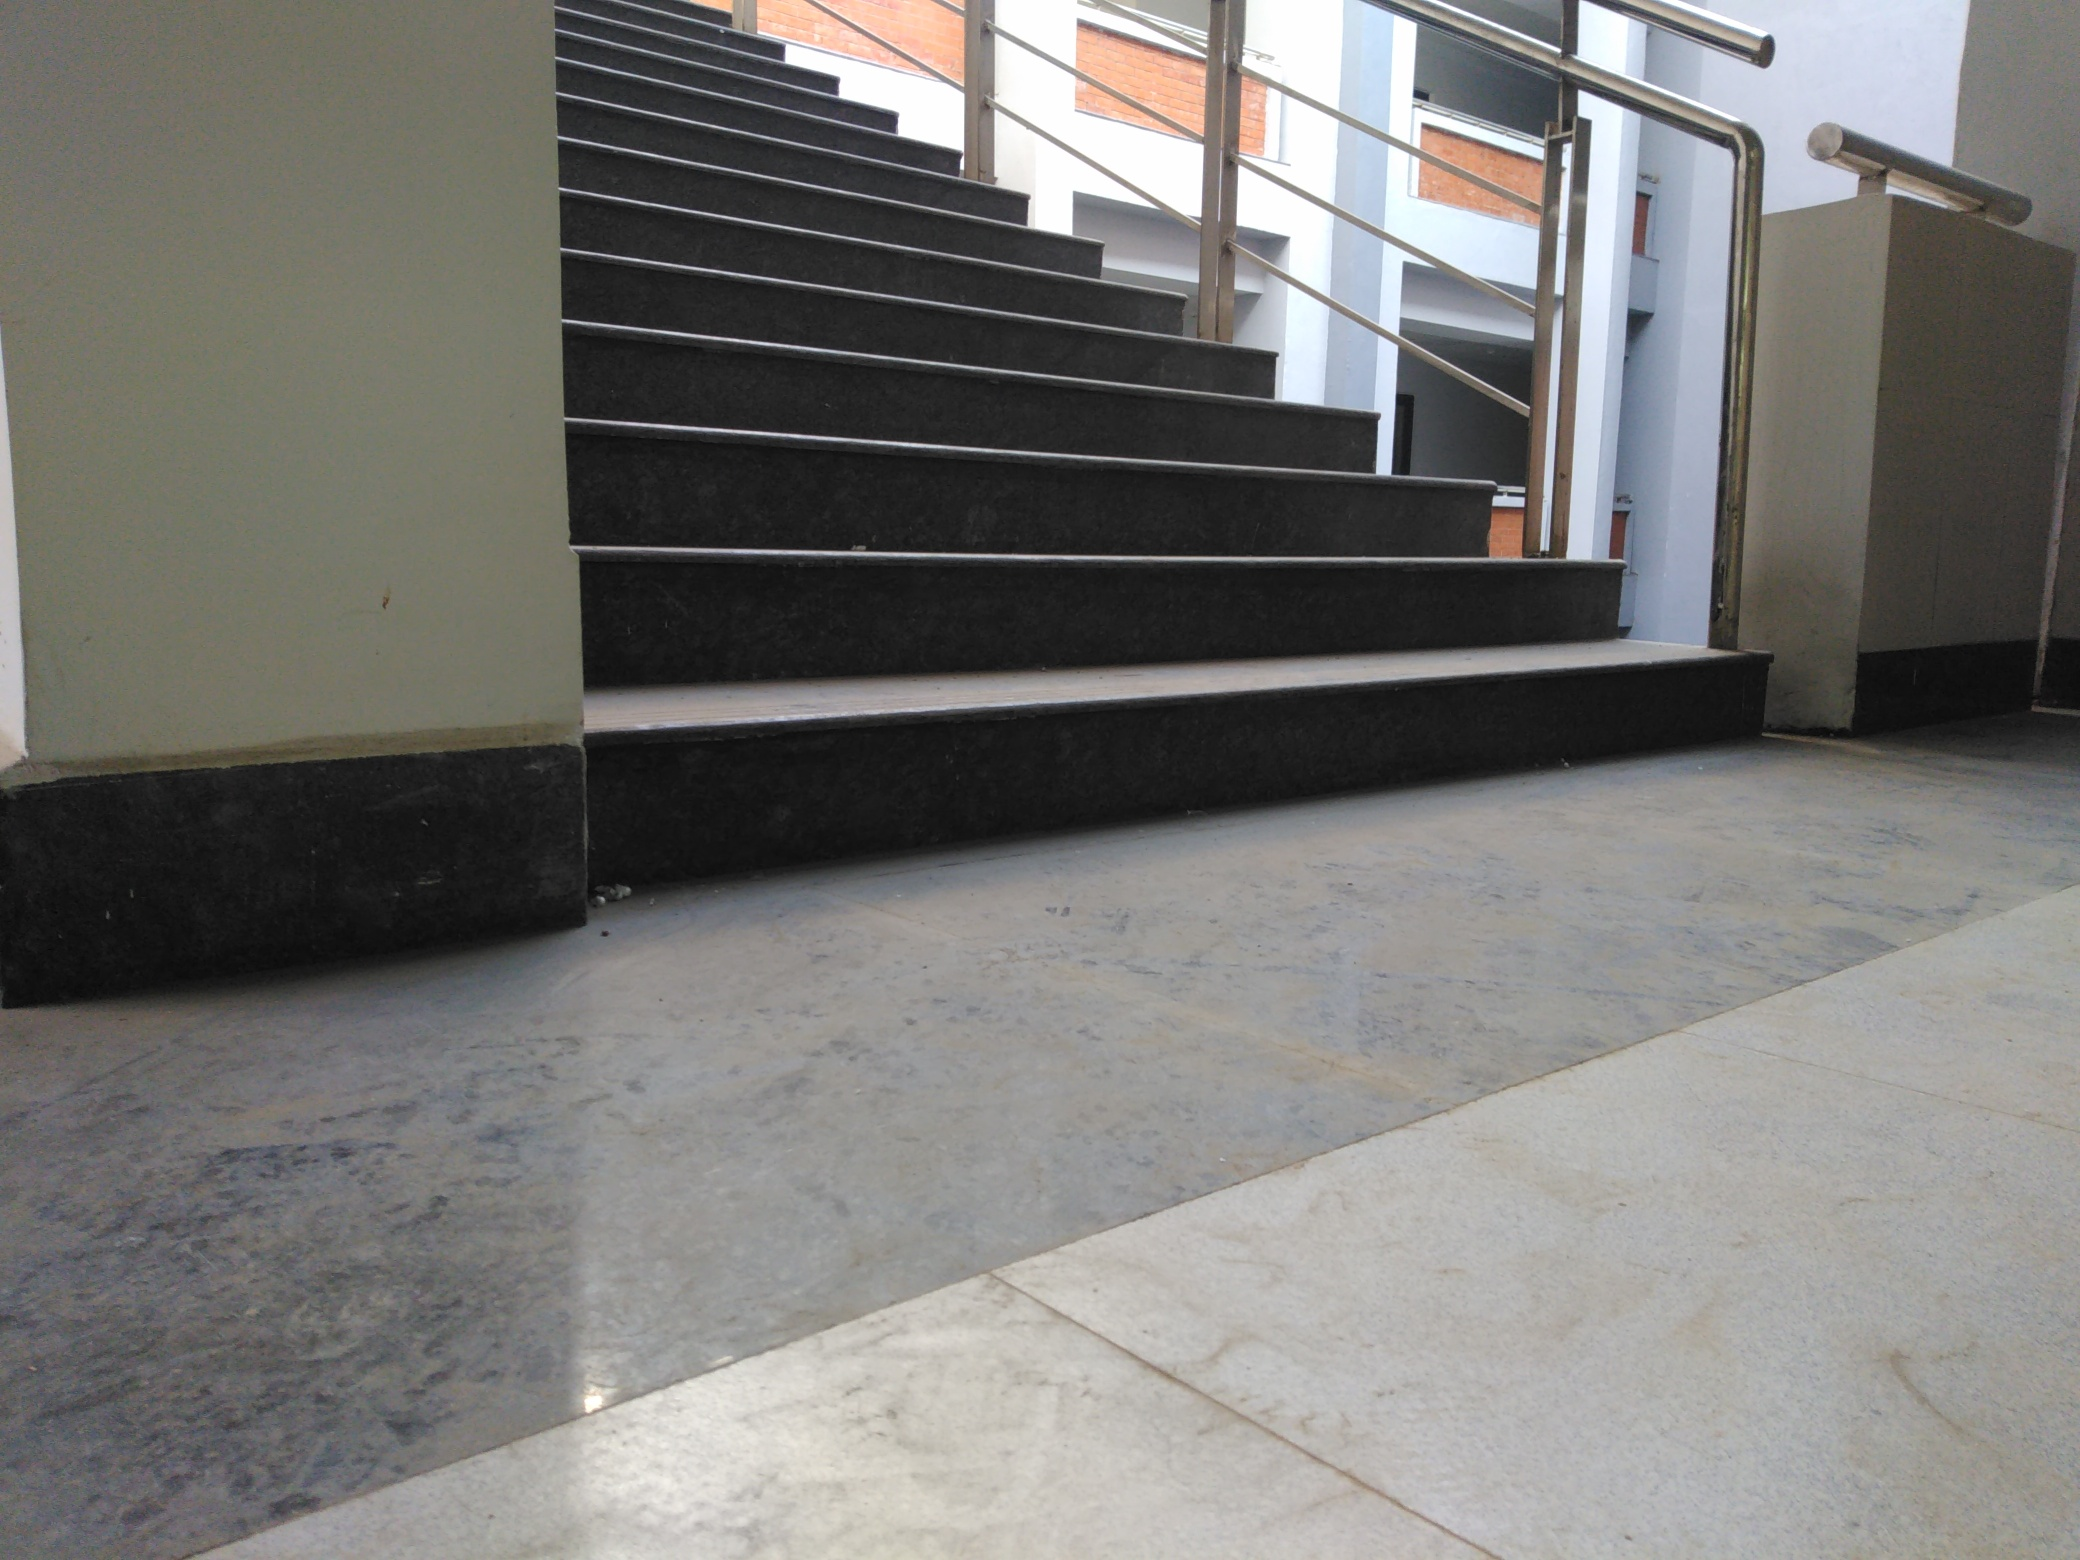stairs_up: (560, 21, 1721, 805)
